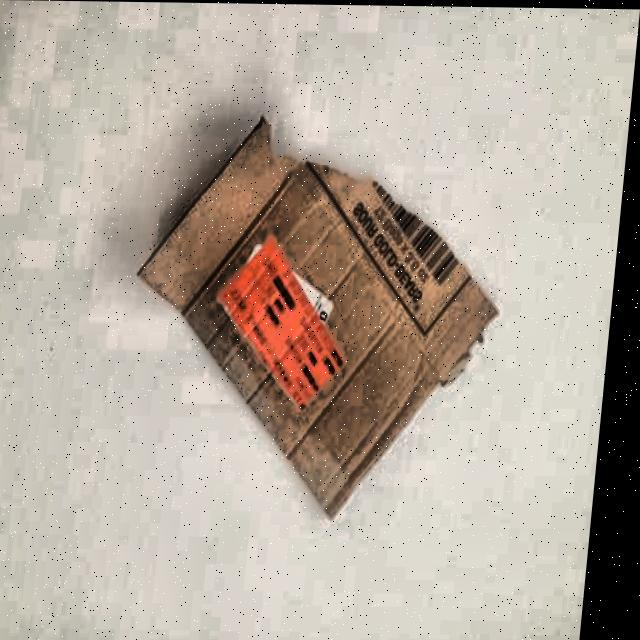cardboard: (113, 111, 520, 521)
